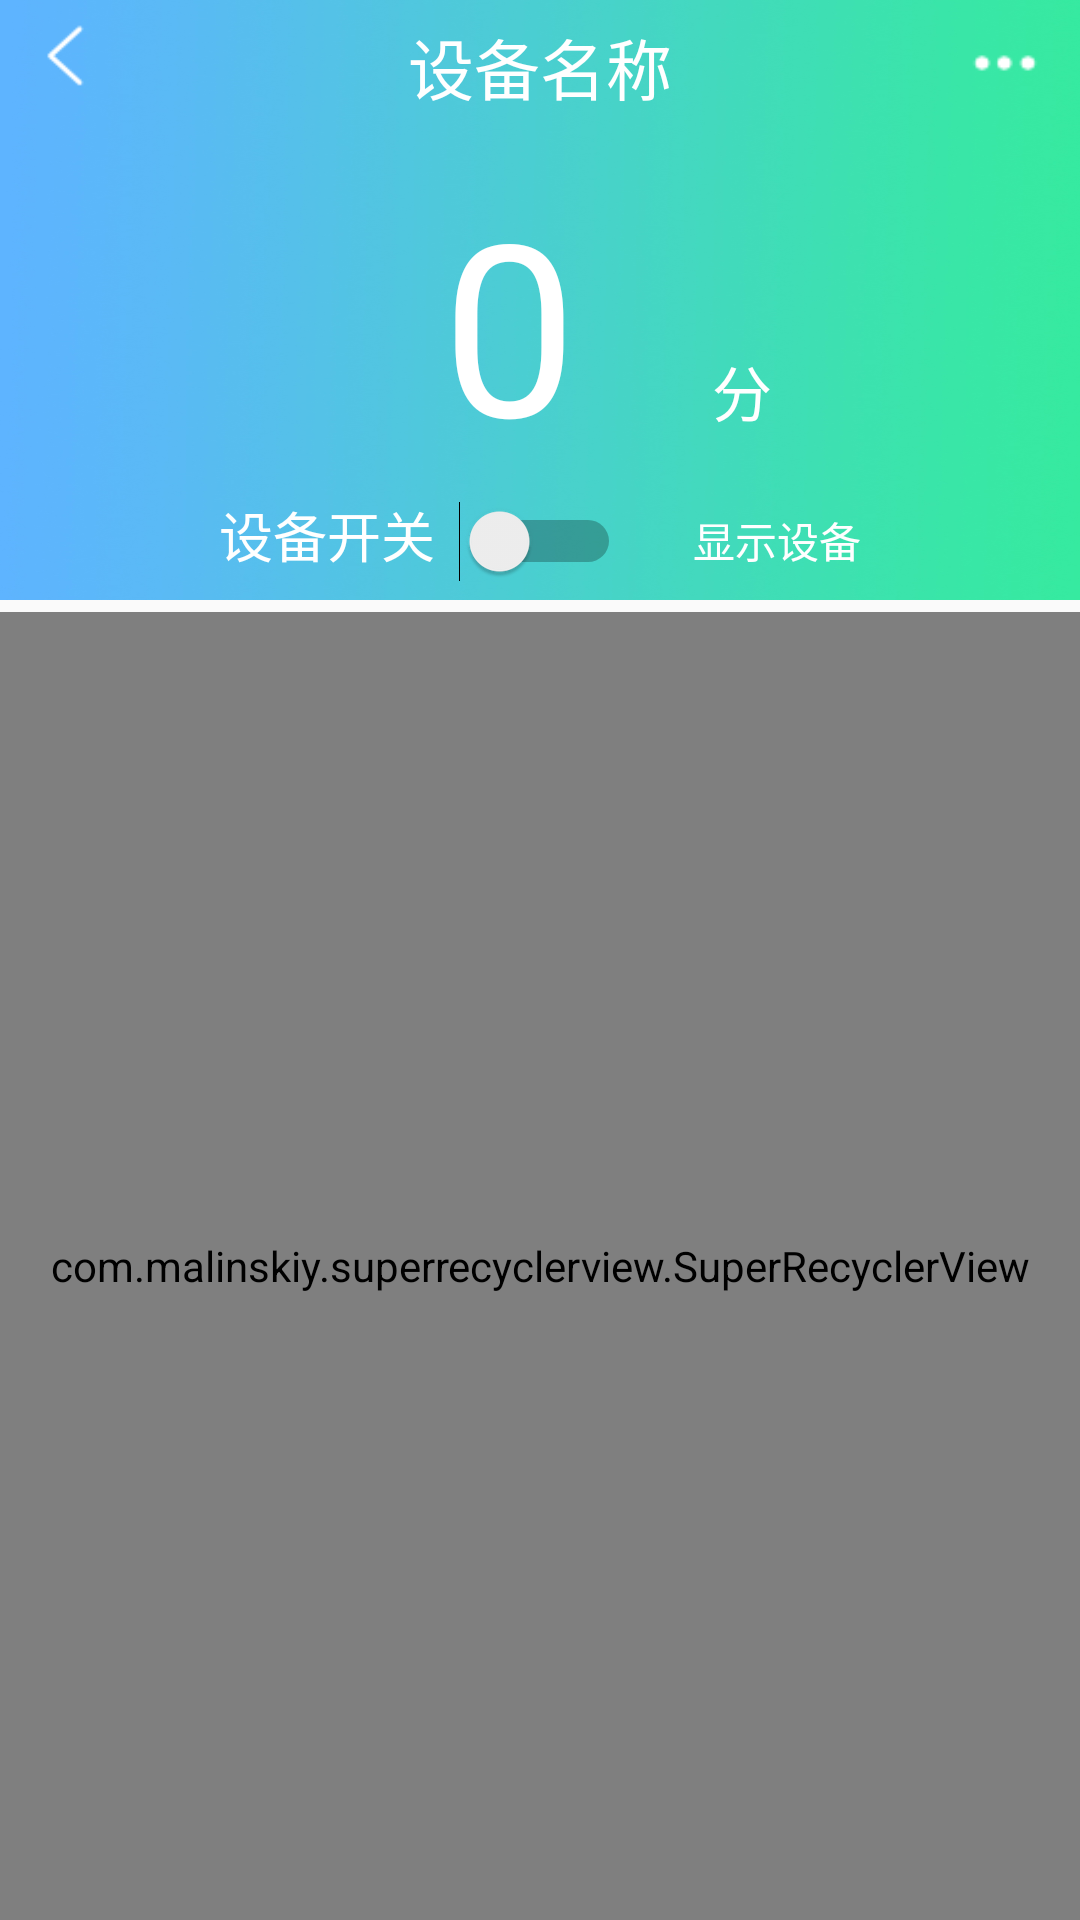

Icons on this 1080x1920 Android screen, each with the point to tap as (x,y):
back: (65,56)
more: (1005,63)
